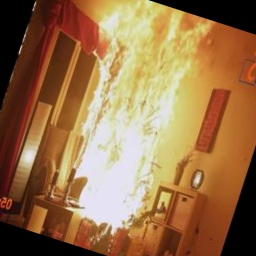fire: (31, 0, 230, 253)
